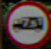Heavy Vehicles: (9, 1, 49, 39)
